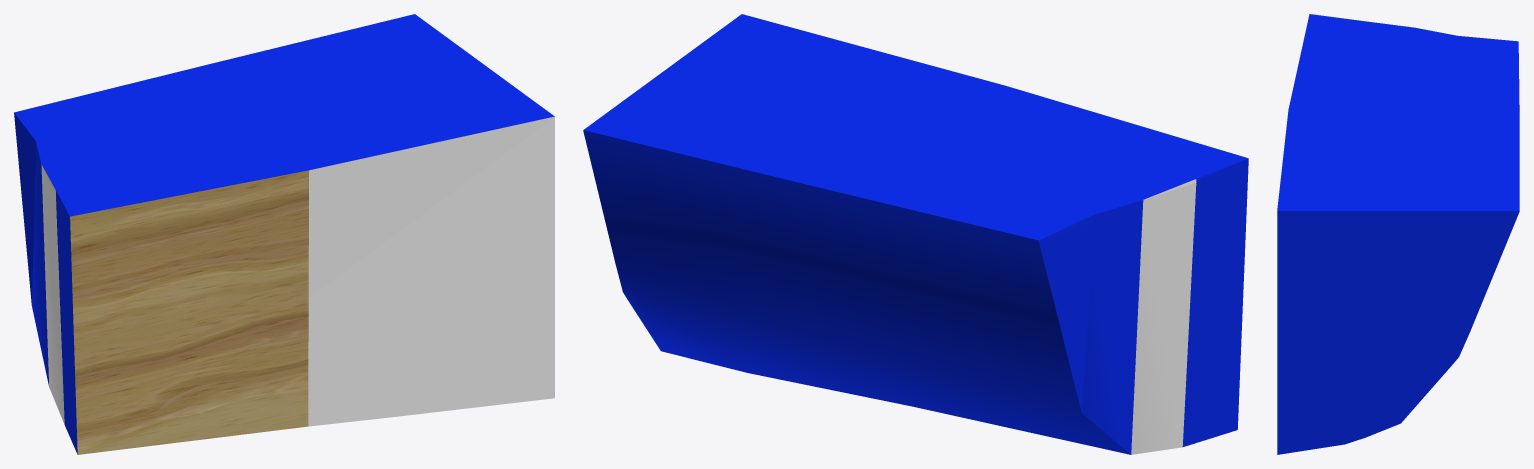
The model's file is backRight.obj.
3 renders of one model, left to right at view 1: azimuth 30°, elevation 25°; view 2: azimuth 150°, elevation 25°; view 3: azimuth 270°, elevation 25°, orthographic. The views are drawn at different scales.
Parts seen in each view (by area): view 1: back_r_link; view 2: back_r_link; view 3: back_r_link.
Part boxes in pixels (box(x1,y1,x2,y2)): back_r_link: box(14, 14, 554, 454); back_r_link: box(583, 14, 1248, 454); back_r_link: box(1277, 14, 1519, 454).
Size of the model in its own units: 1.68 by 0.9723 by 0.8764.
Materials: 5 (3 with a texture image).
